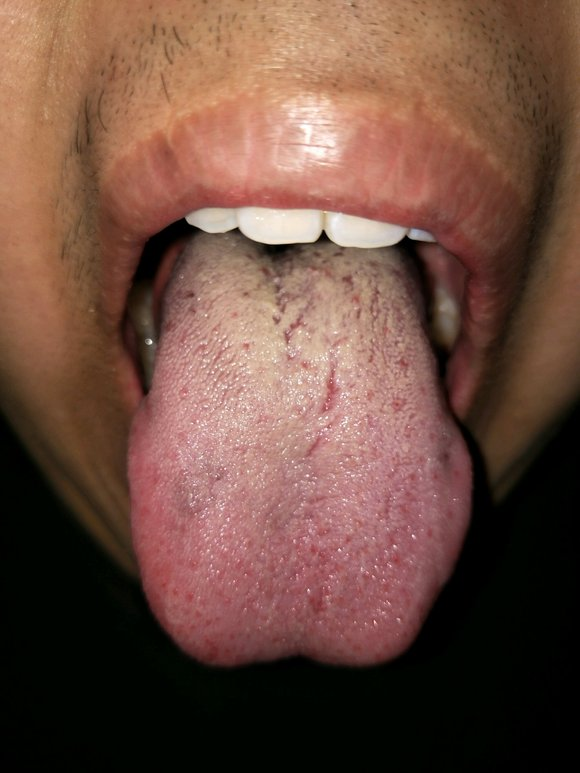hongdianshe: (239, 338, 251, 352), (311, 247, 321, 260)
hongshe: (127, 214, 470, 670)
huangtaishe: (127, 214, 470, 670)
